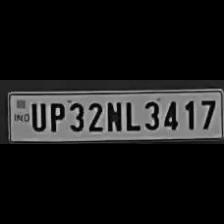1: (182, 98, 196, 130)
2: (84, 99, 104, 133)
3: (140, 97, 160, 130), (65, 99, 84, 133)
4: (160, 97, 180, 130)
7: (196, 97, 216, 131)
L: (123, 98, 139, 132)
N: (104, 97, 122, 132)
P: (46, 99, 64, 133)
U: (27, 100, 46, 132)
